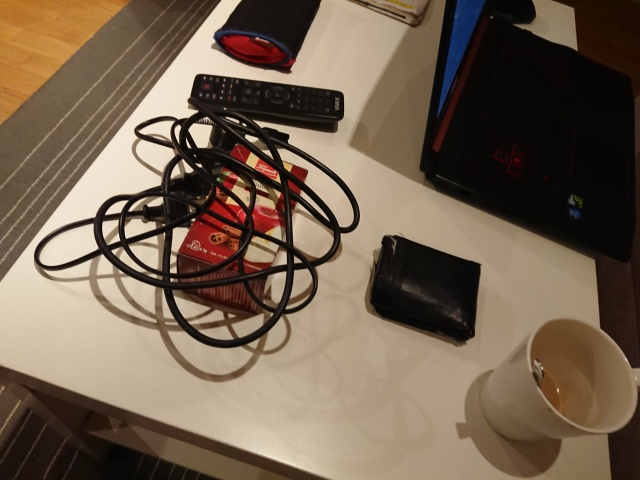Franck Apple Cinnamon Tea 60g: (173, 141, 311, 318)
